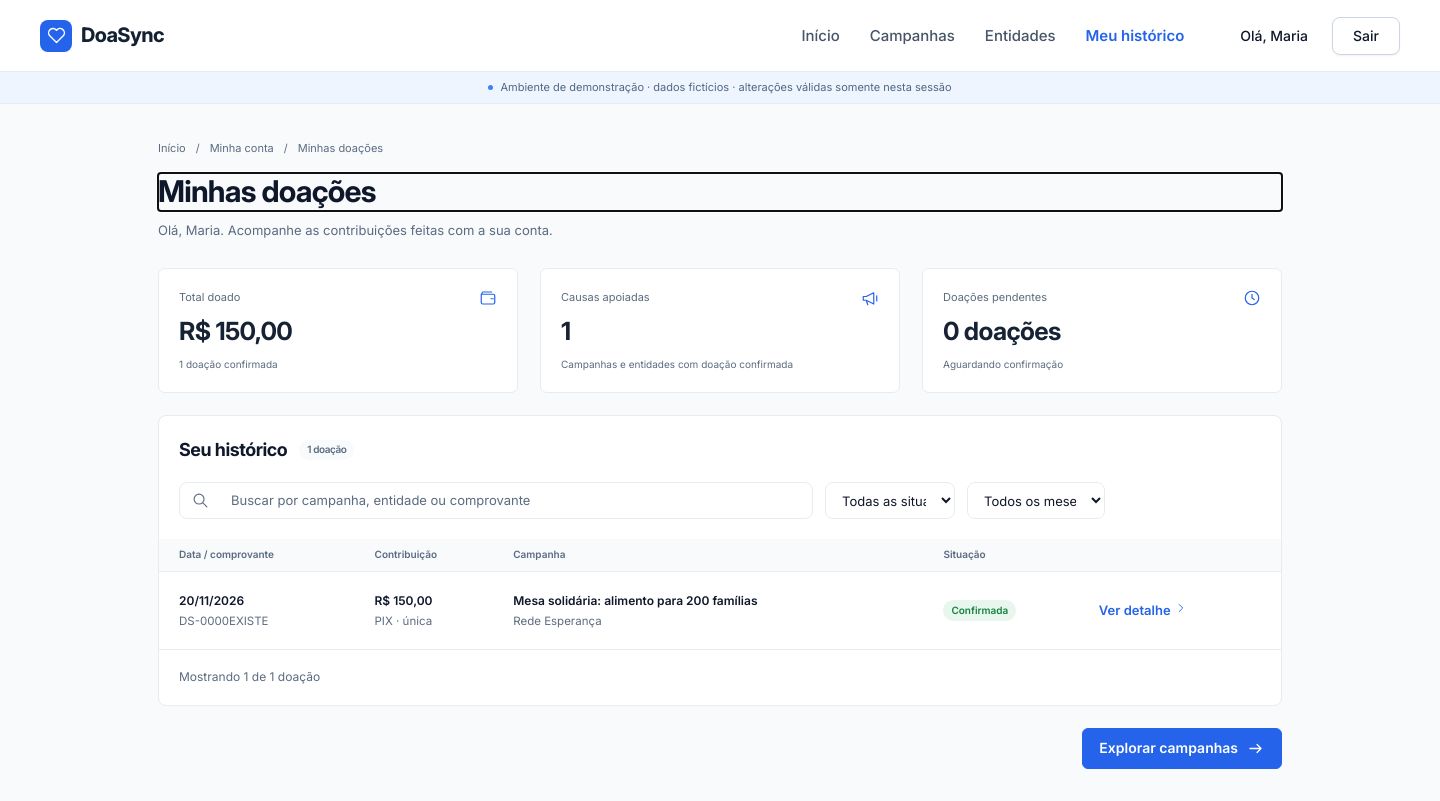
Test: tela Minhas doações › lista as doações da API com indicadores e leva ao detalhe
Expected: the heading "Minhas doações" is shown, top-left (158, 173), bottom-right (376, 209)
Expected: the text "DS-0000EXISTE" is shown, top-left (179, 614), bottom-right (268, 628)
Click the link "Ver detalhe" at (1143, 610), box top-left (1099, 602), bottom-right (1188, 618)
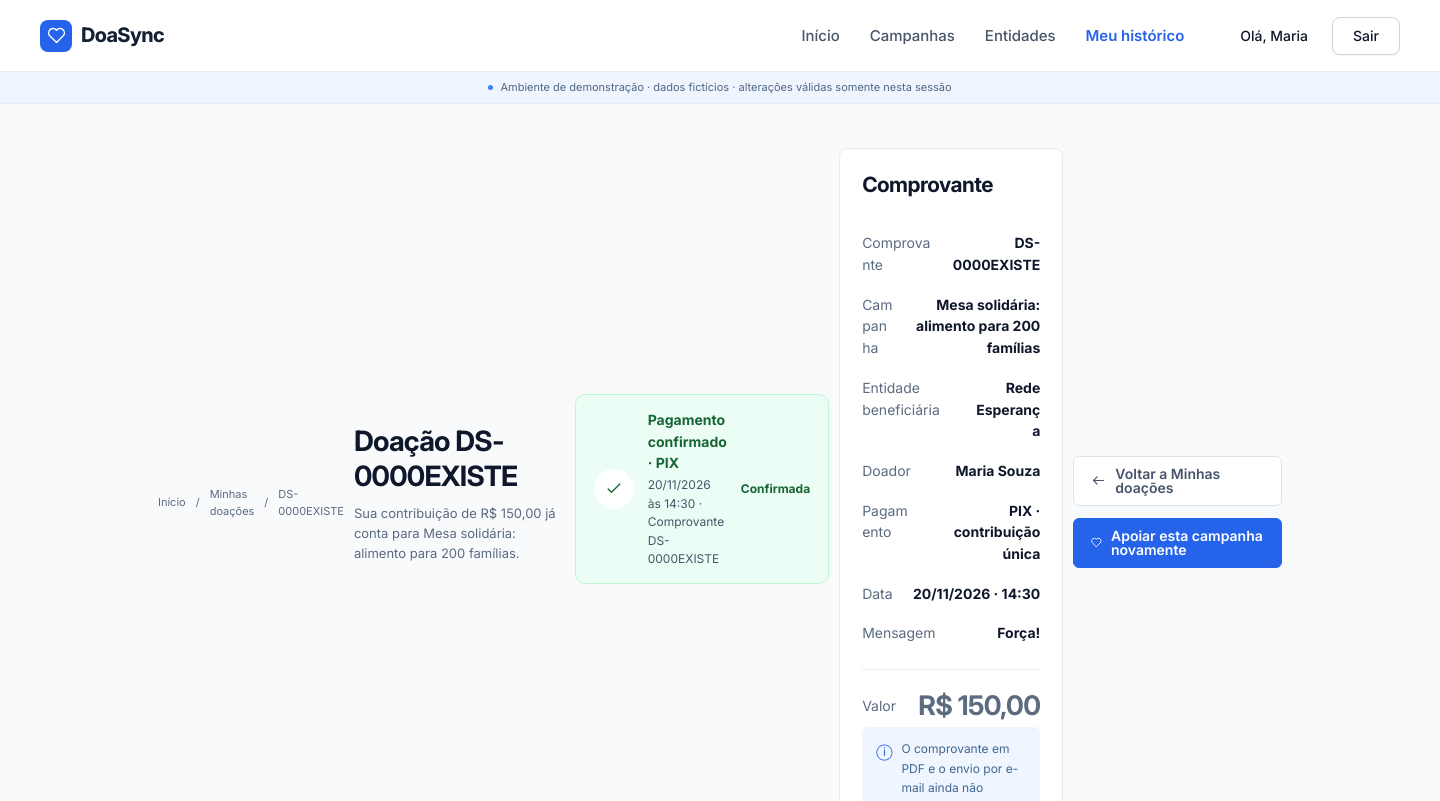
Now the heading "Doação DS-0000EXISTE" is shown, box top-left (354, 424), bottom-right (517, 493)
